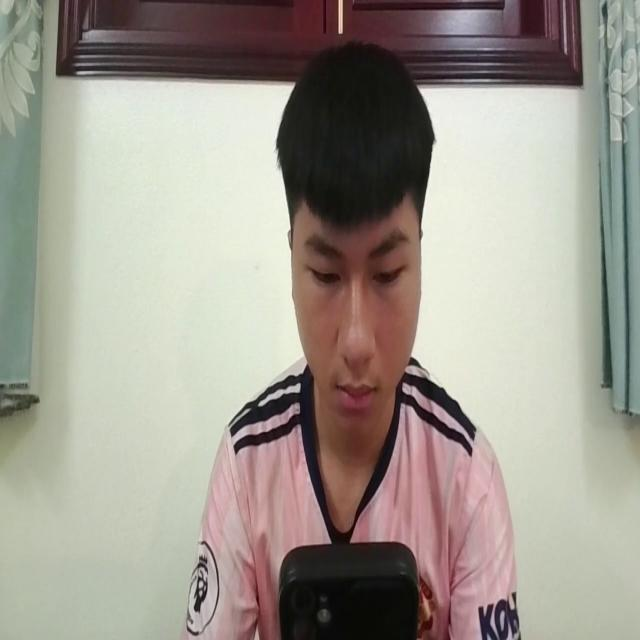phone: (280, 538, 420, 640)
student: (189, 33, 510, 640)
